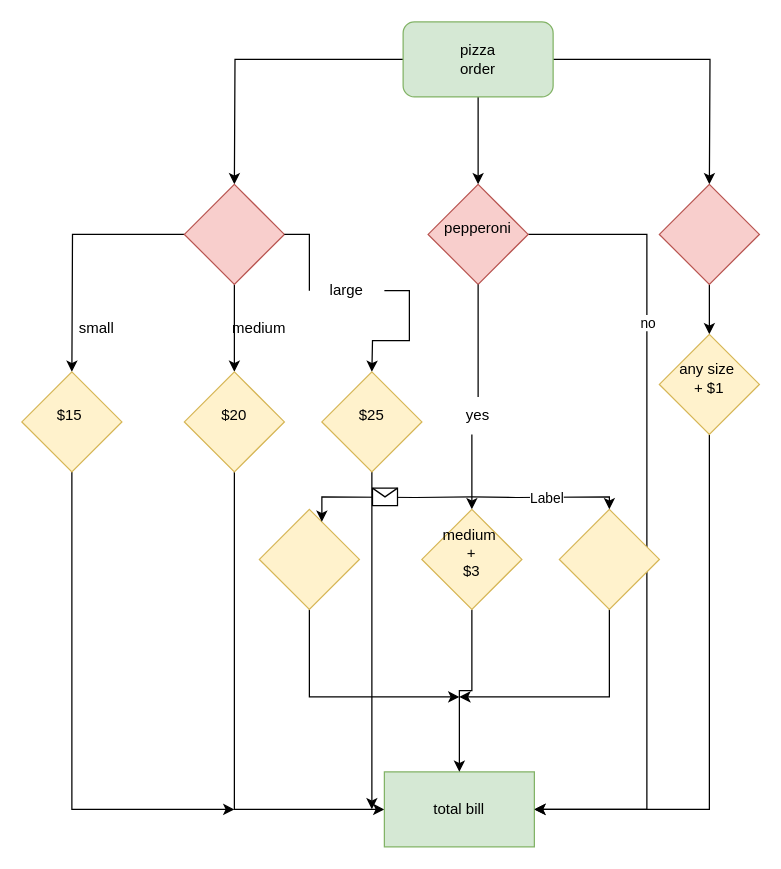
The diagram is 781 pixels wide and 869 high, and some of its shapes have lost their labels. Here are the shapes that lost their labels. From the top down, the box of each, then its label:
(183, 183, 284, 284): size
(658, 183, 759, 284): extra cheese
(258, 508, 359, 609): small + $2
(558, 508, 659, 609): large + $3
